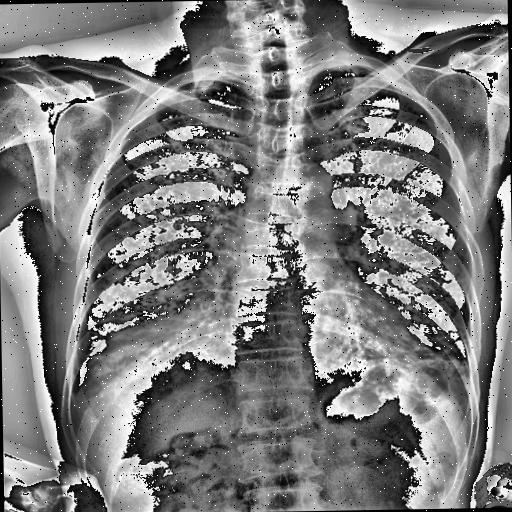10- Pleural effusion: (444, 348, 472, 374)
11- Pleural thickening: (180, 68, 224, 98), (310, 61, 378, 78), (444, 348, 472, 374)
13- Pulmonary fibrosis: (86, 252, 238, 376), (354, 280, 468, 374), (348, 302, 472, 379), (89, 294, 222, 354)
3- Cardiomegaly: (201, 290, 419, 402)
6- Infiltration: (80, 249, 252, 381), (86, 252, 238, 376), (94, 296, 210, 394), (354, 280, 468, 374)
7- Lung Opacity: (94, 296, 210, 394)
9- Other lesion: (404, 46, 432, 52)
